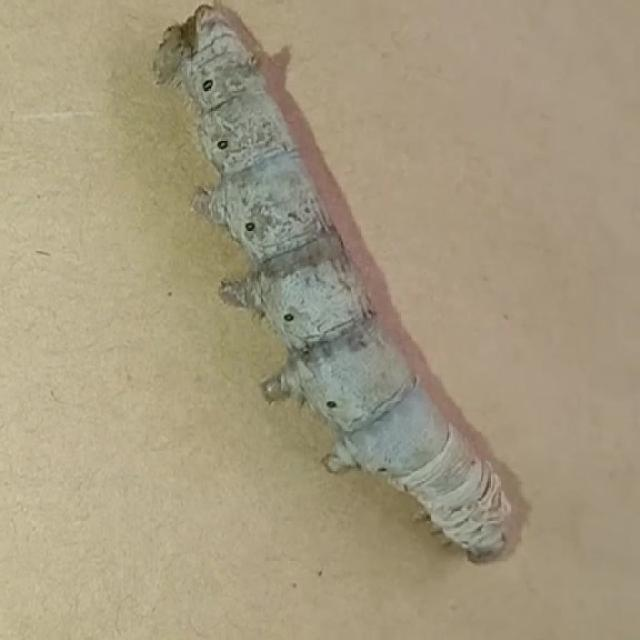Grasserie: (144, 7, 544, 594)
